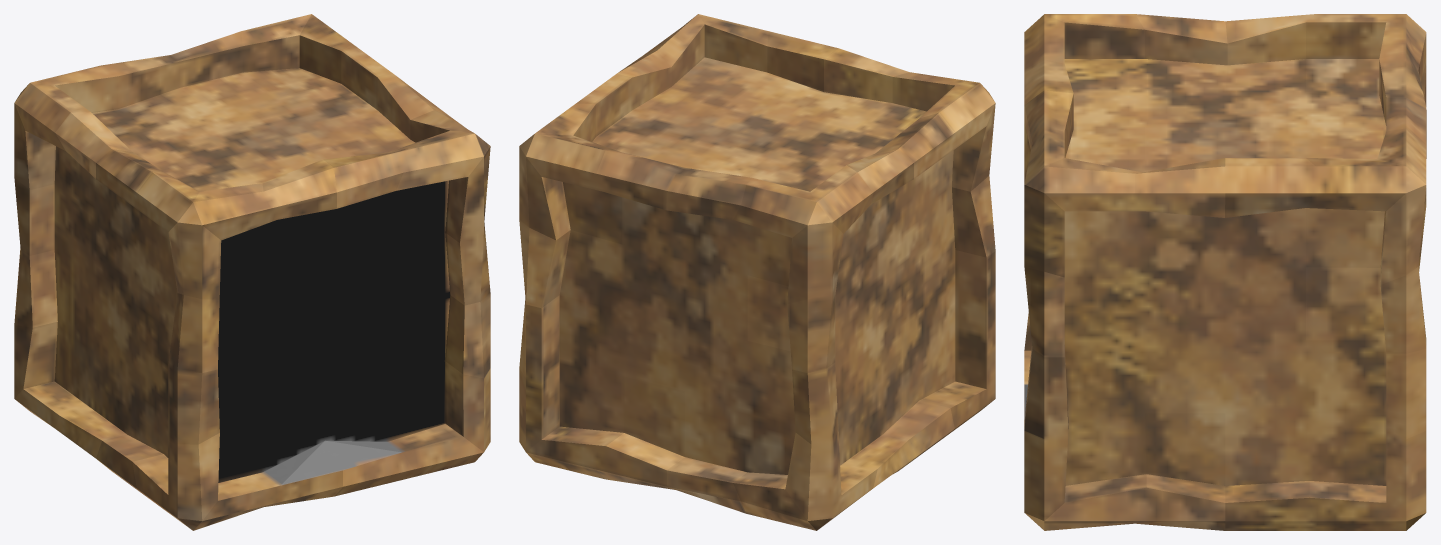
File: Mountain Stone Drawer.fbx
3 renders of one model, left to right at view 1: azimuth 30°, elevation 25°; view 2: azimuth 150°, elevation 25°; view 3: azimuth 270°, elevation 25°, orthographic. The views are drawn at different scales.
Visible parts, largest first — view 1: Cube; view 2: Cube; view 3: Cube.
Part boxes in pixels (x1,y1,x2,y2): Cube: (14,14,490,530); Cube: (519,14,995,530); Cube: (1024,14,1426,530).
Size of the model in its own units: 100 by 100 by 100.
Materials: 1 (1 with a texture image).
